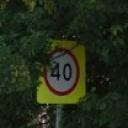speed_limit_40: (34, 46, 88, 98)
